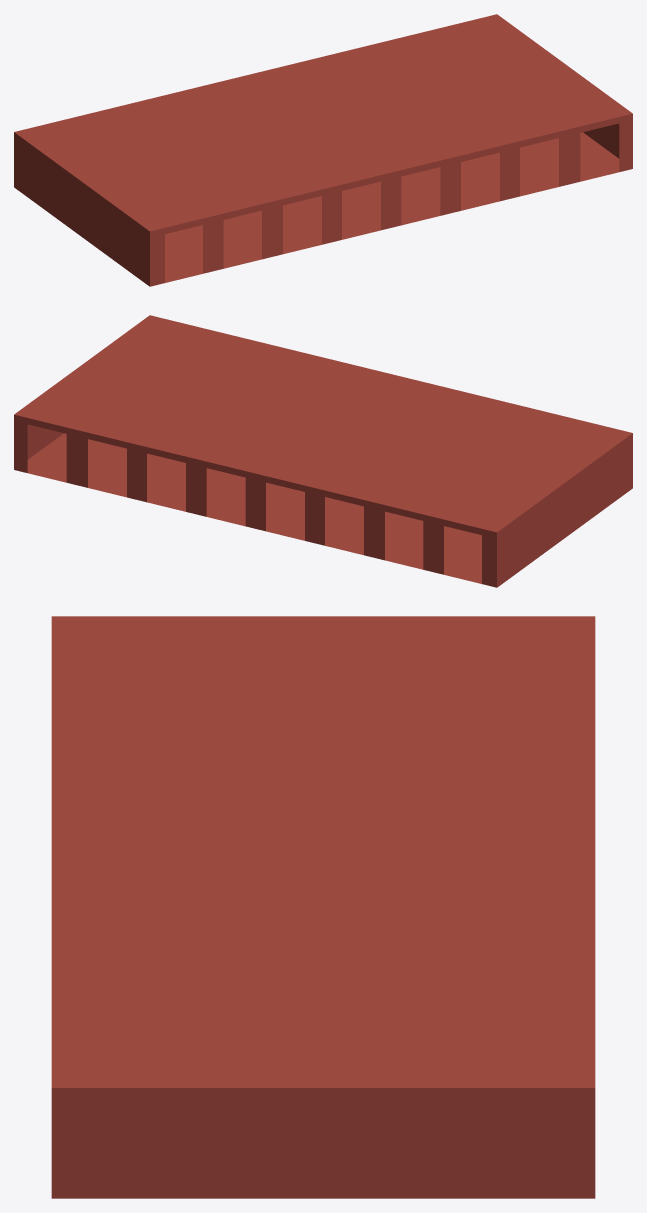
Rendered from OuterWall.fbx.
3 renders of one model, top to bottom at view 1: azimuth 30°, elevation 25°; view 2: azimuth 150°, elevation 25°; view 3: azimuth 270°, elevation 25°, orthographic. The views are drawn at different scales.
Visible parts, largest first — view 1: 10_OUTERWALL; view 2: 10_OUTERWALL; view 3: 10_OUTERWALL.
Part boxes in pixels (x1,y1,x2,y2): 10_OUTERWALL: (14,14,632,286); 10_OUTERWALL: (14,315,632,587); 10_OUTERWALL: (51,616,595,1198).
Size of the model in its own units: 77.63 by 8.49 by 37.82.
